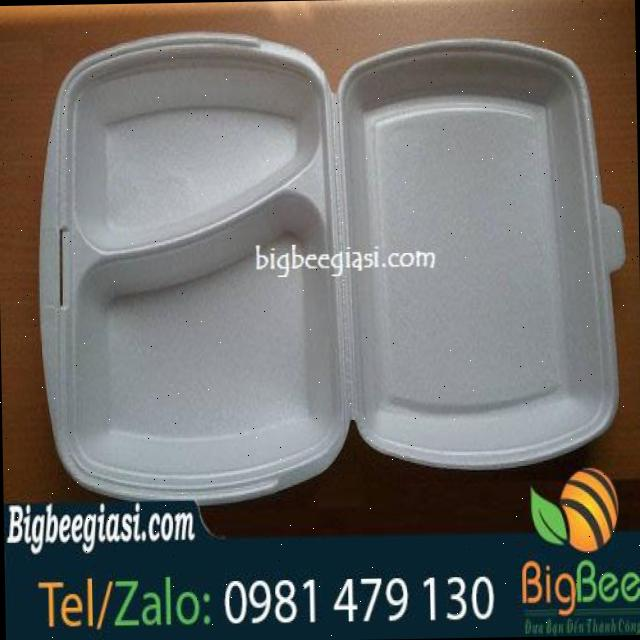styrofoam: (32, 21, 629, 507), (336, 31, 628, 474)
